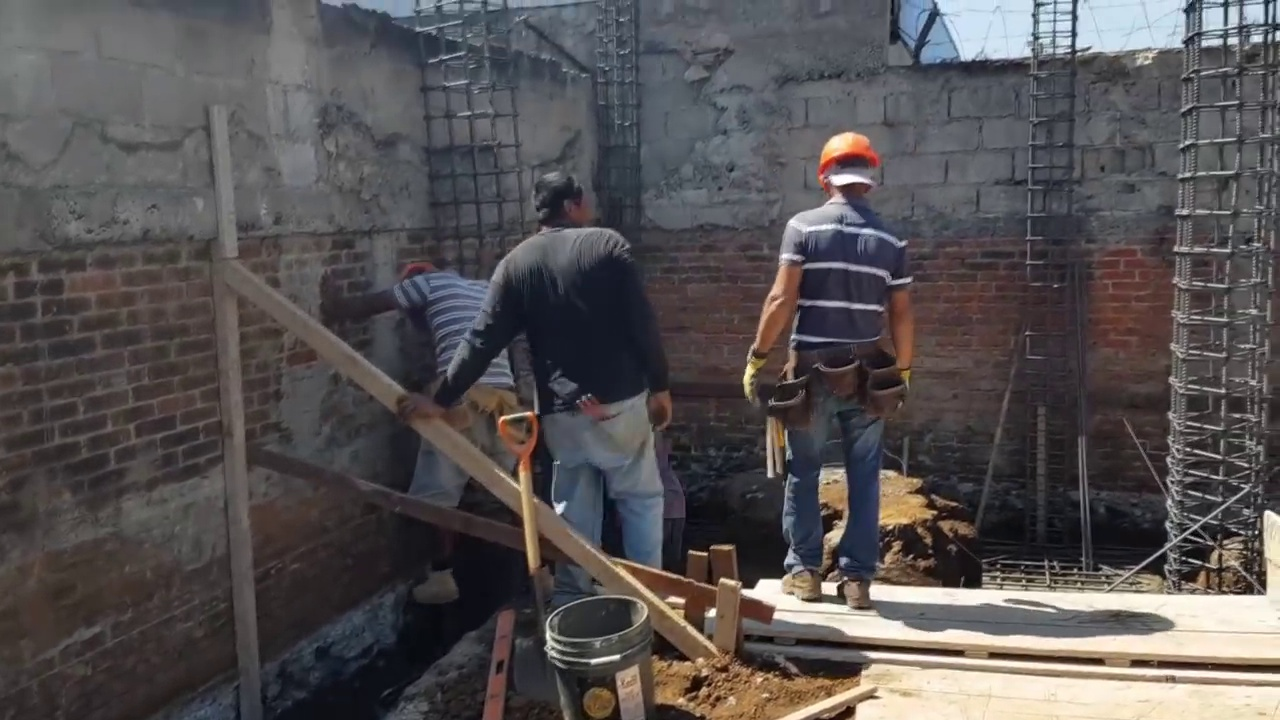helmet: (817, 132, 881, 182)
helmet-off: (531, 172, 588, 226)
helmet-on: (821, 131, 883, 215), (499, 407, 542, 477), (397, 255, 443, 284)
person: (396, 156, 666, 570), (752, 131, 918, 631), (322, 233, 499, 618), (449, 376, 544, 680)
